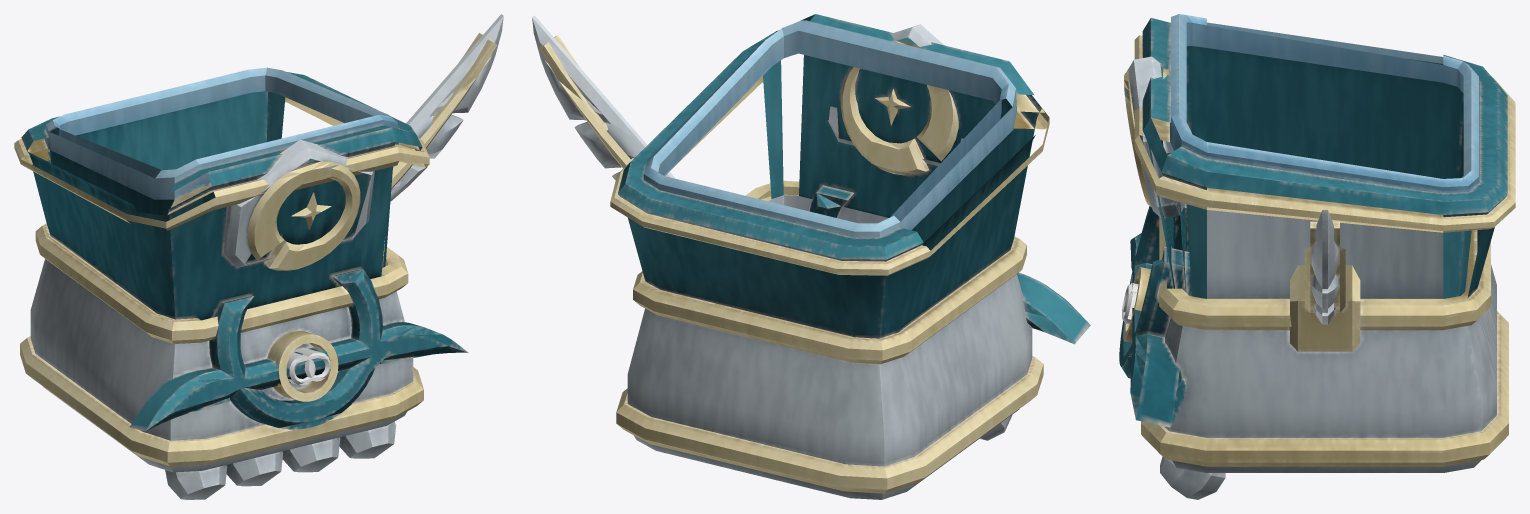
File: Blinkstep Knuckles.fbx
The picture shows the model from 3 angles, left to right: view 1: azimuth 30°, elevation 25°; view 2: azimuth 150°, elevation 25°; view 3: azimuth 270°, elevation 25°; orthographic projection. The views are drawn at different scales.
Parts seen in each view (by area): view 1: Blinkstep Knuckles_Body, Blinkstep Knuckles_Glow; view 2: Blinkstep Knuckles_Body; view 3: Blinkstep Knuckles_Body, Blinkstep Knuckles_Glow.
Boxes of the visible parts, box(x1,y1,x2,y2) form: Blinkstep Knuckles_Body: box(14, 14, 503, 499); Blinkstep Knuckles_Glow: box(287, 347, 330, 385); Blinkstep Knuckles_Body: box(532, 14, 1090, 499); Blinkstep Knuckles_Body: box(1119, 14, 1515, 499); Blinkstep Knuckles_Glow: box(1122, 283, 1138, 324).
Size of the model in its own units: 2.1 by 1.6 by 1.46.
